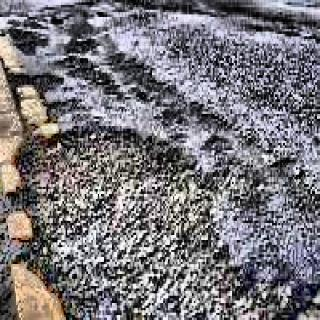pothole: (2, 122, 320, 320), (2, 8, 154, 124)
